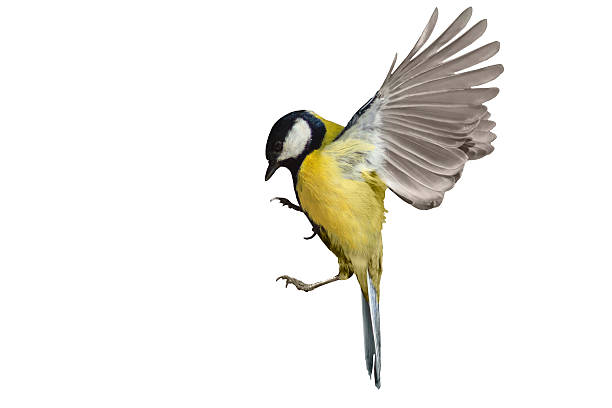Bird: (258, 1, 507, 388)
